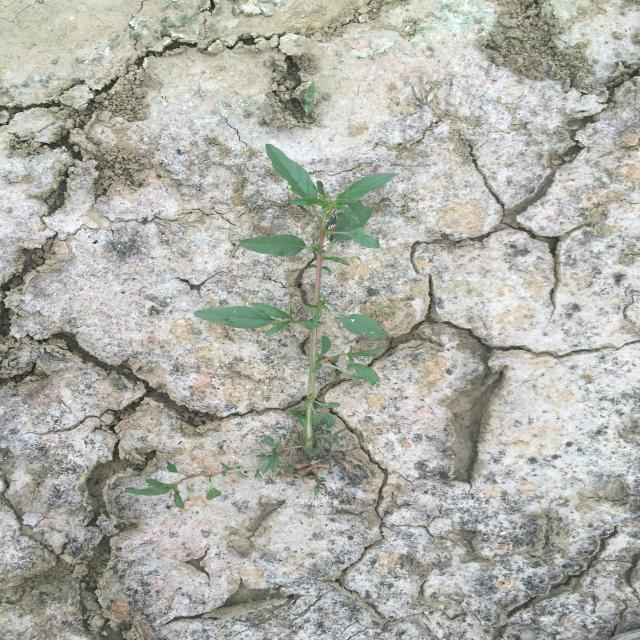Waterhemp: (124, 143, 396, 511)
